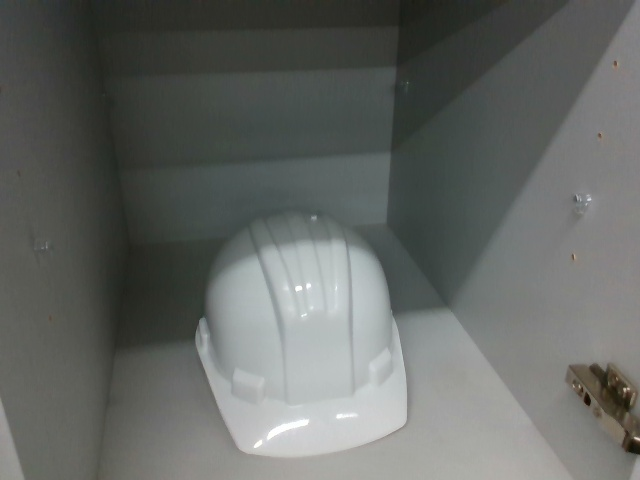helmet: (194, 209, 415, 459)
